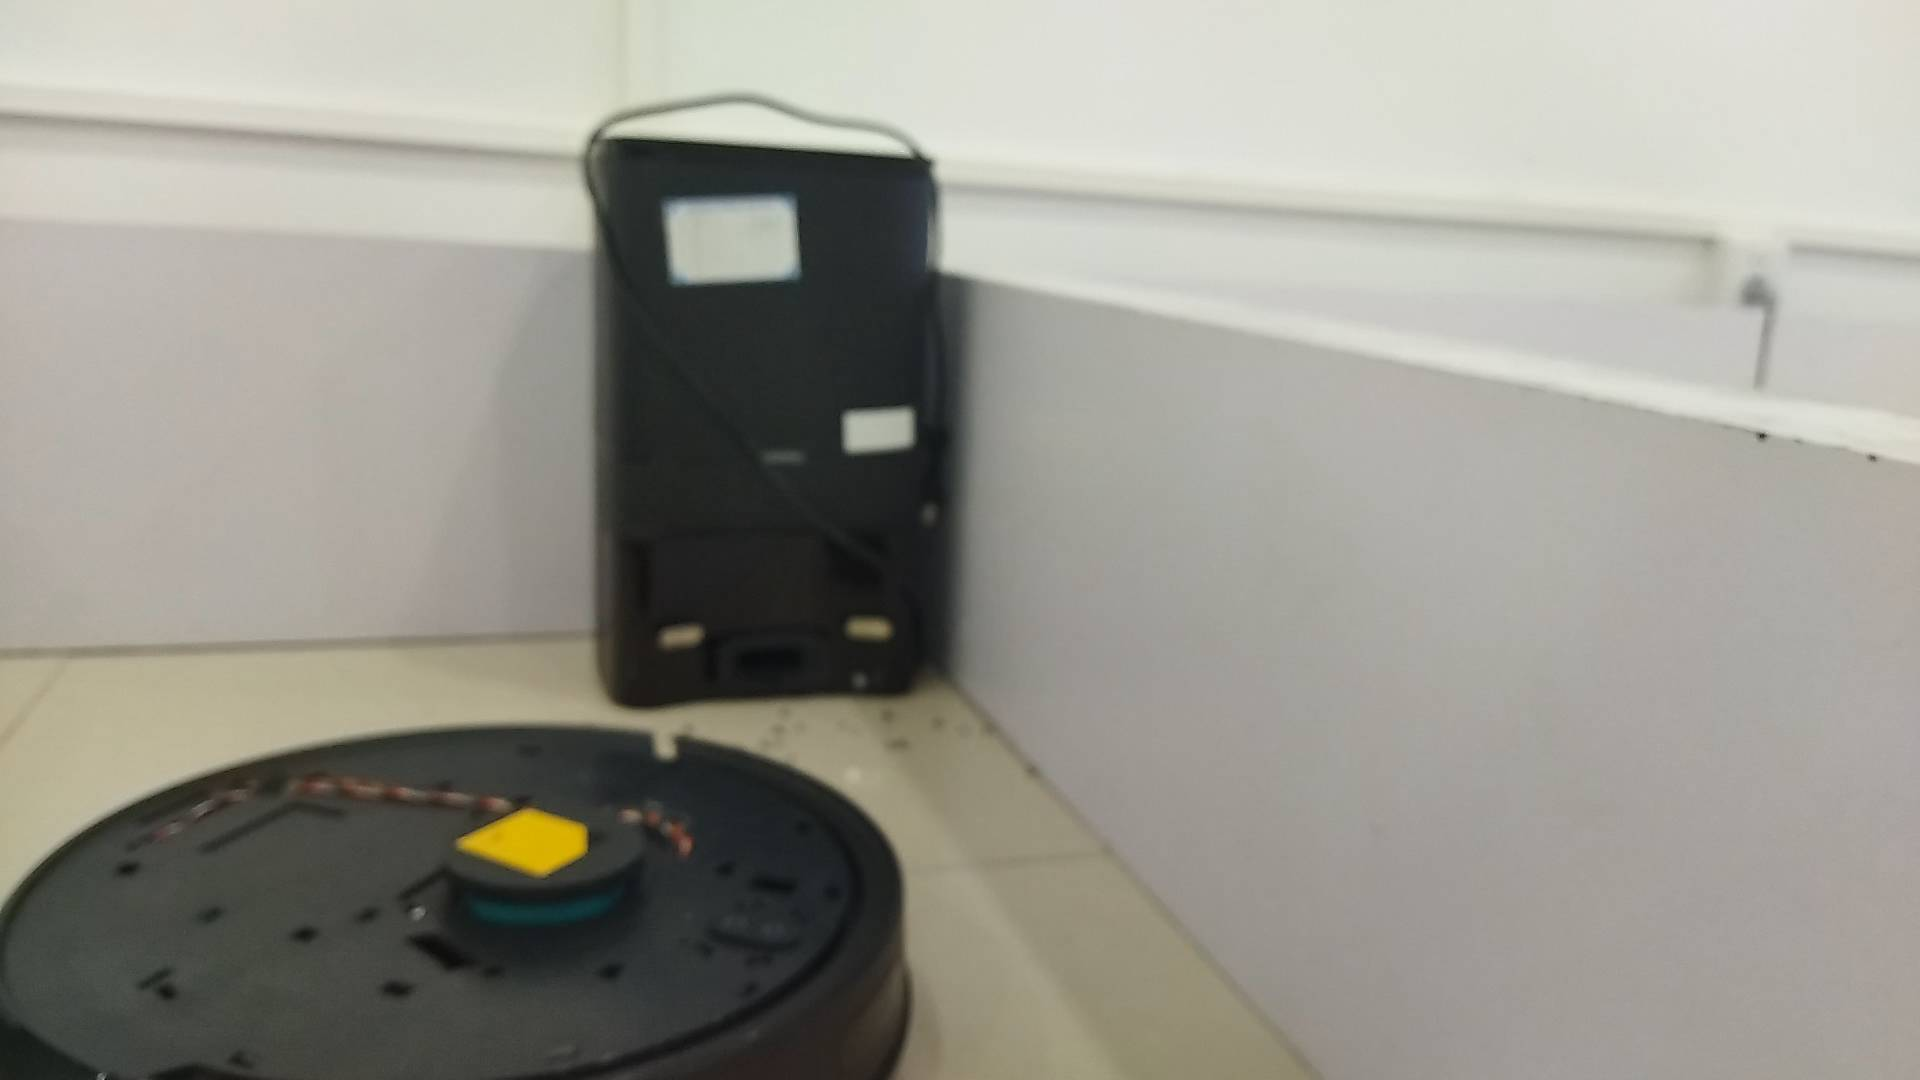dust collecting barrel: (591, 137, 949, 713)
